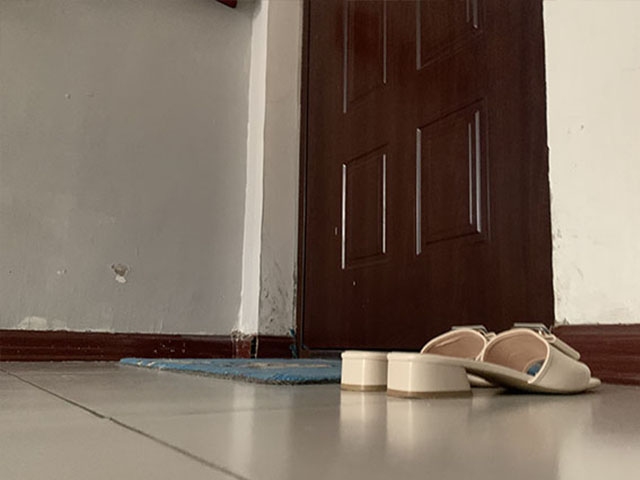carpet: (115, 355, 342, 388)
slippers: (383, 325, 600, 399), (336, 325, 490, 390)
